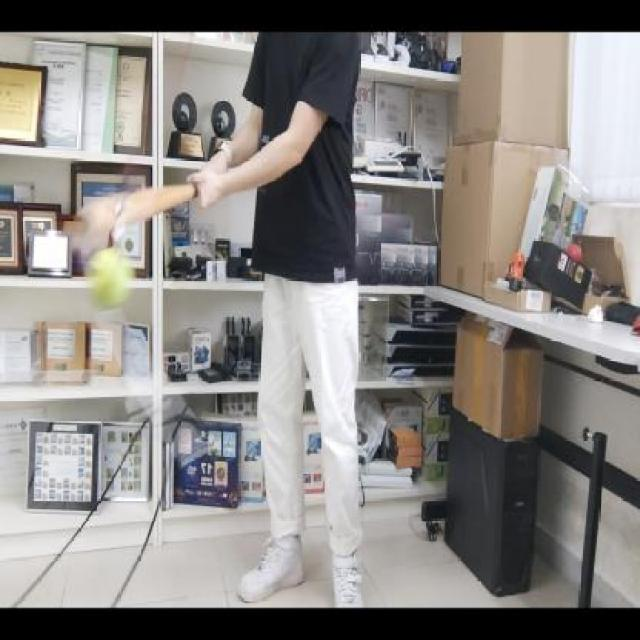baseball: (82, 250, 138, 312)
